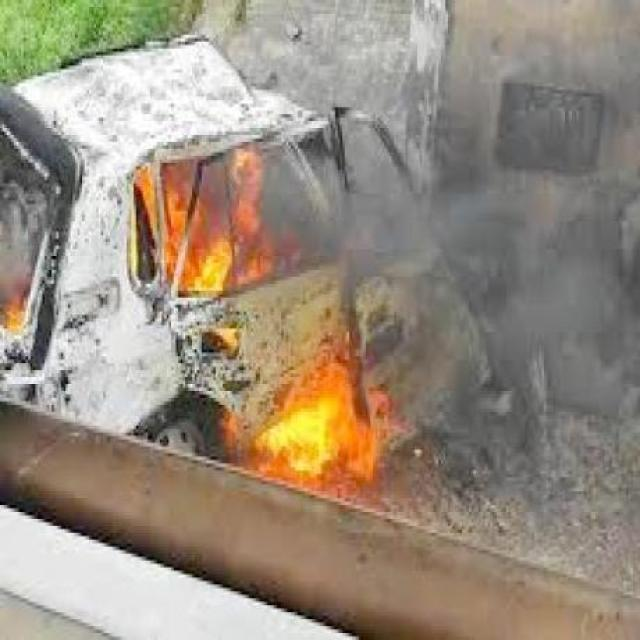Fire: (122, 143, 278, 300), (248, 364, 382, 504), (1, 291, 52, 349)
Smoke: (310, 125, 640, 374)
